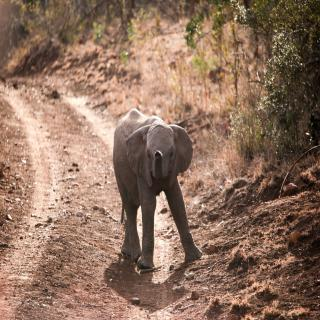Elephant: (112, 108, 208, 285)
